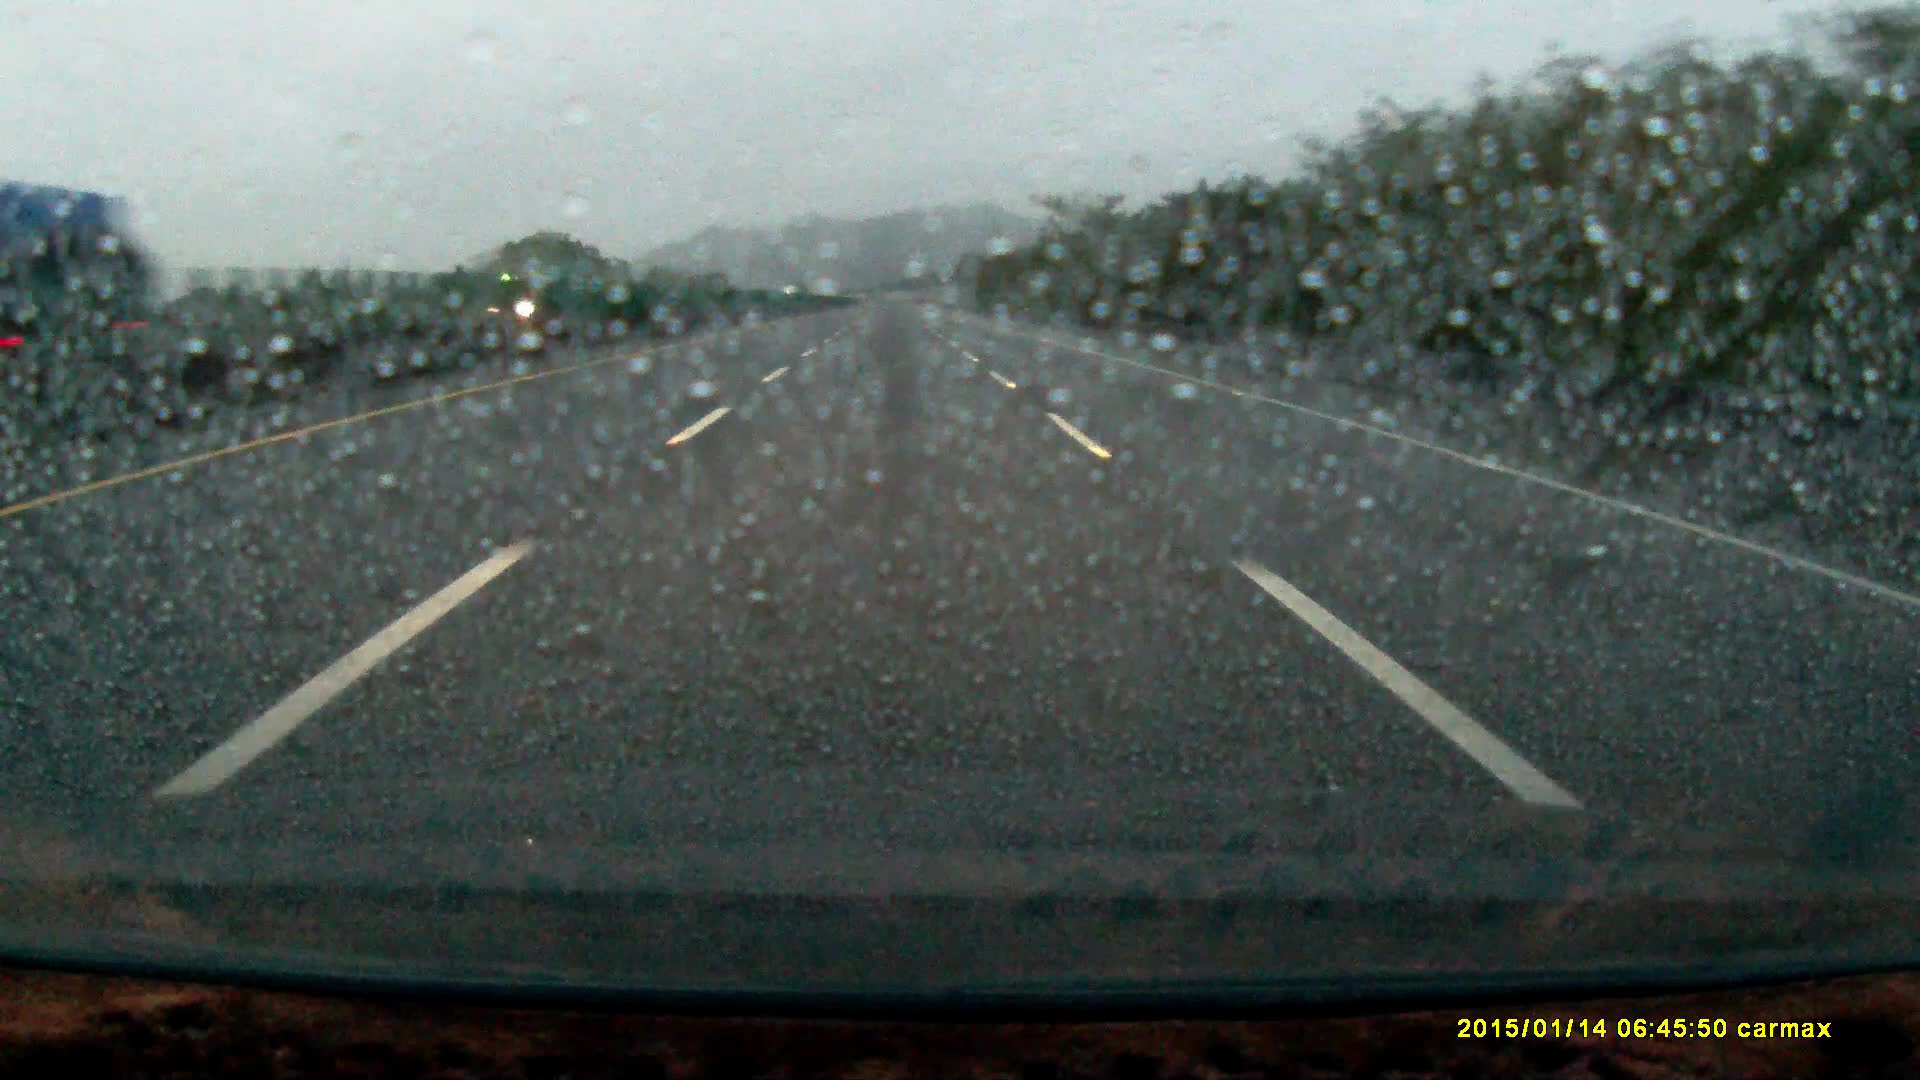vehicle: (1, 187, 127, 369), (479, 261, 589, 334)
